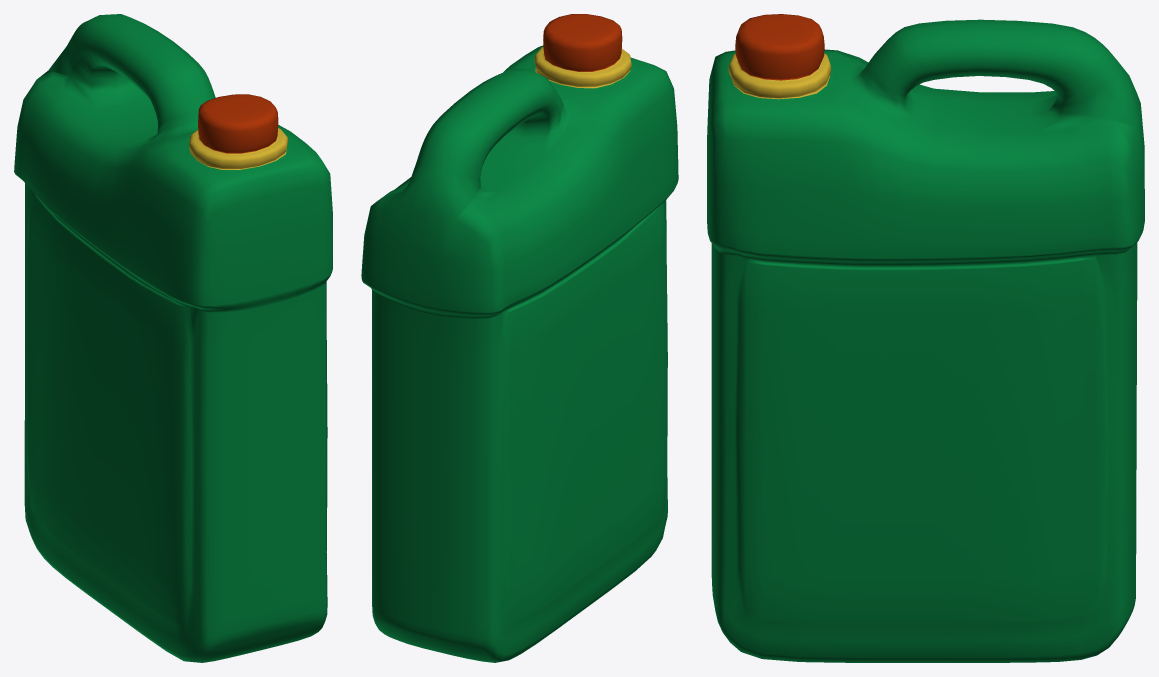
Rendered from PlasticProp.fbx.
The picture shows the model from 3 angles, left to right: view 1: azimuth 30°, elevation 25°; view 2: azimuth 150°, elevation 25°; view 3: azimuth 270°, elevation 25°; orthographic projection. The views are drawn at different scales.
Parts seen in each view (by area): view 1: PlasticProp; view 2: PlasticProp; view 3: PlasticProp.
Boxes of the visible parts, <box> form: PlasticProp: <box>14,14,332,662</box>; PlasticProp: <box>361,14,678,662</box>; PlasticProp: <box>707,14,1144,662</box>.
Bounding box in the file's own units: 2 × 6.54 × 4.28.
